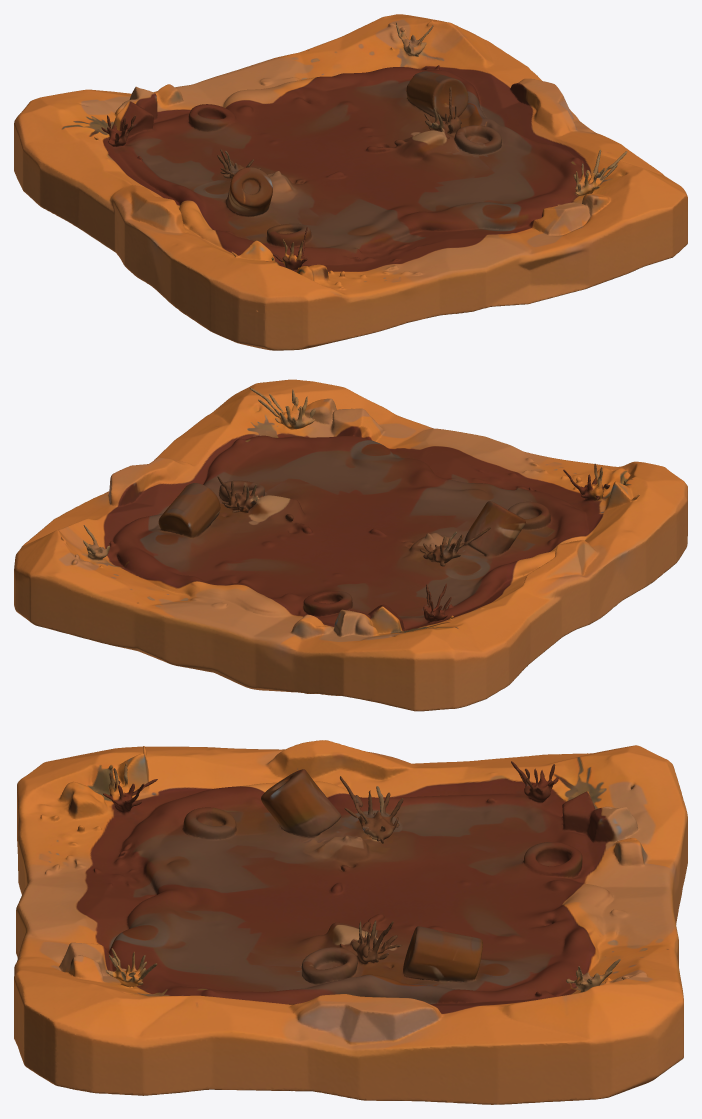
The model's file is MudPool3D.fbx.
The picture shows the model from 3 angles, top to bottom: view 1: azimuth 30°, elevation 25°; view 2: azimuth 150°, elevation 25°; view 3: azimuth 270°, elevation 25°; orthographic projection. The views are drawn at different scales.
Parts seen in each view (by area): view 1: tripo_node_50c02493; view 2: tripo_node_50c02493; view 3: tripo_node_50c02493.
Part boxes in pixels (<box>): tripo_node_50c02493: <box>14,14,687,350</box>; tripo_node_50c02493: <box>14,379,687,711</box>; tripo_node_50c02493: <box>14,740,687,1104</box>.
Size of the model in its own units: 1 by 0.2238 by 0.9948.
